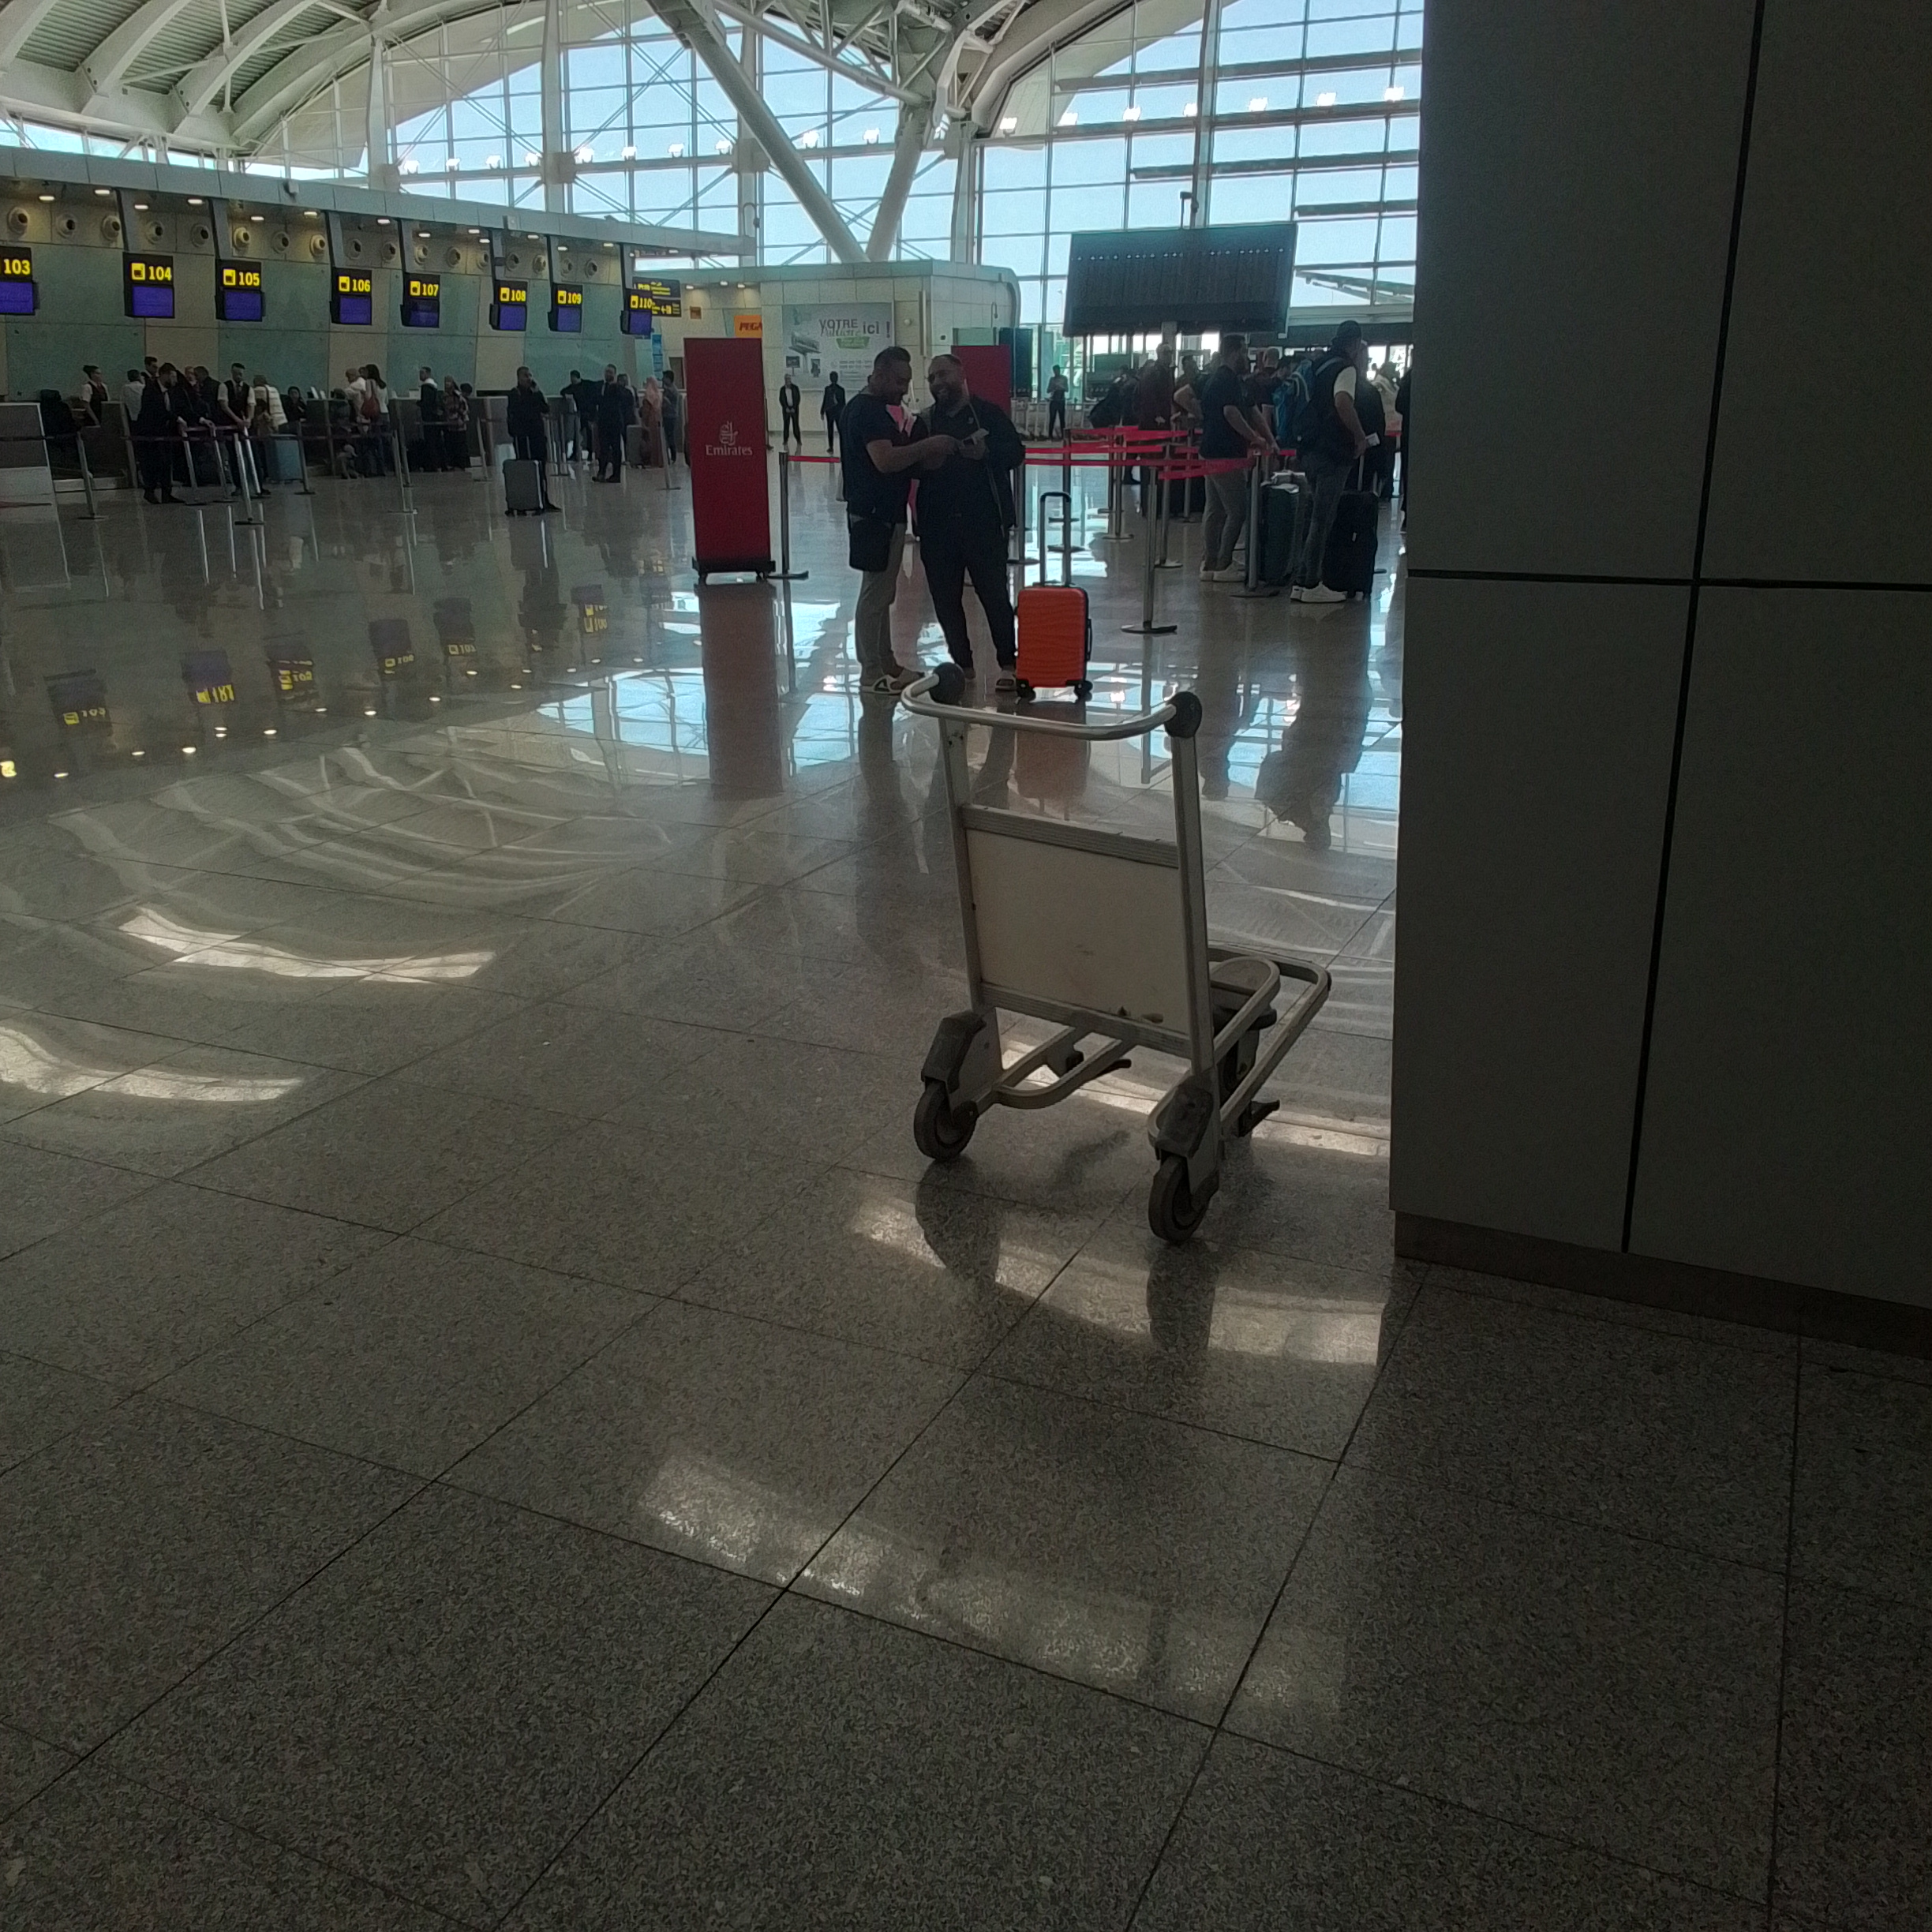airport-trolley: (904, 651, 1330, 1247)
